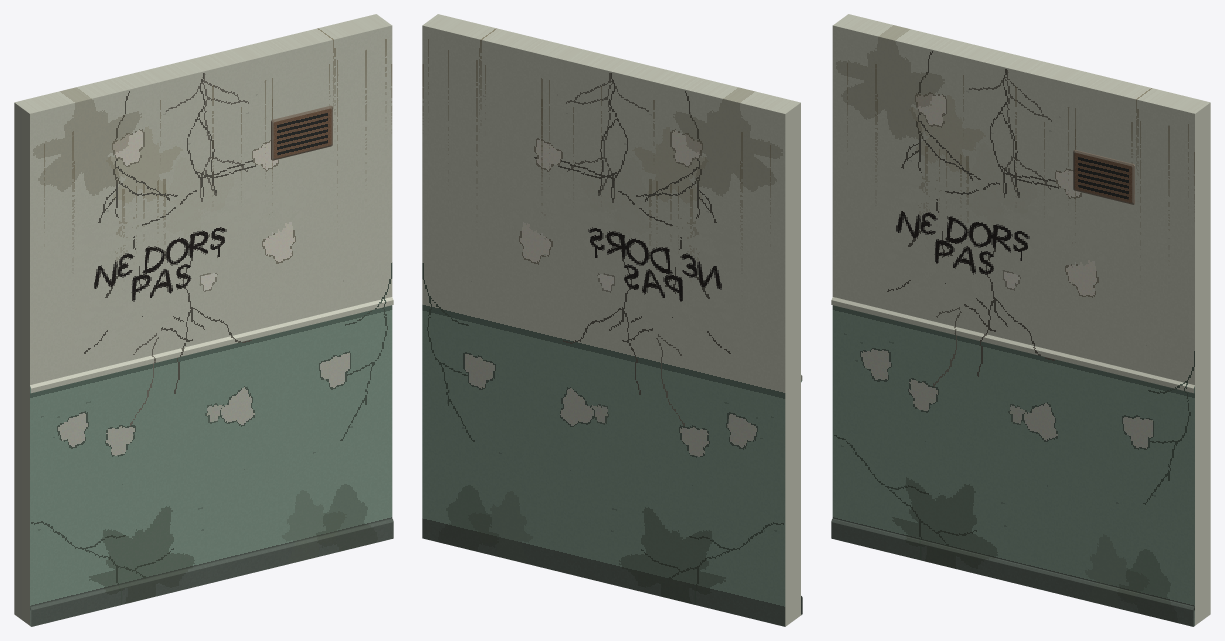
File: wall_4_ne_dors_pas.glb
The picture shows the model from 3 angles, left to right: view 1: azimuth 30°, elevation 25°; view 2: azimuth 150°, elevation 25°; view 3: azimuth 330°, elevation 25°; orthographic projection.
Visible parts, largest first — view 1: wall_body, vent_grille; view 2: wall_body; view 3: wall_body, vent_grille.
Boxes of the visible parts, x1=… form: wall_body: x1=14, y1=14, x2=393, y2=626; vent_grille: x1=271, y1=105, x2=332, y2=160; wall_body: x1=422, y1=14, x2=802, y2=626; wall_body: x1=831, y1=14, x2=1210, y2=626; vent_grille: x1=1073, y1=150, x2=1134, y2=204.
Bounding box in the file's own units: 2 × 2.7 × 0.1656.
Materials: 1 (1 with a texture image).
